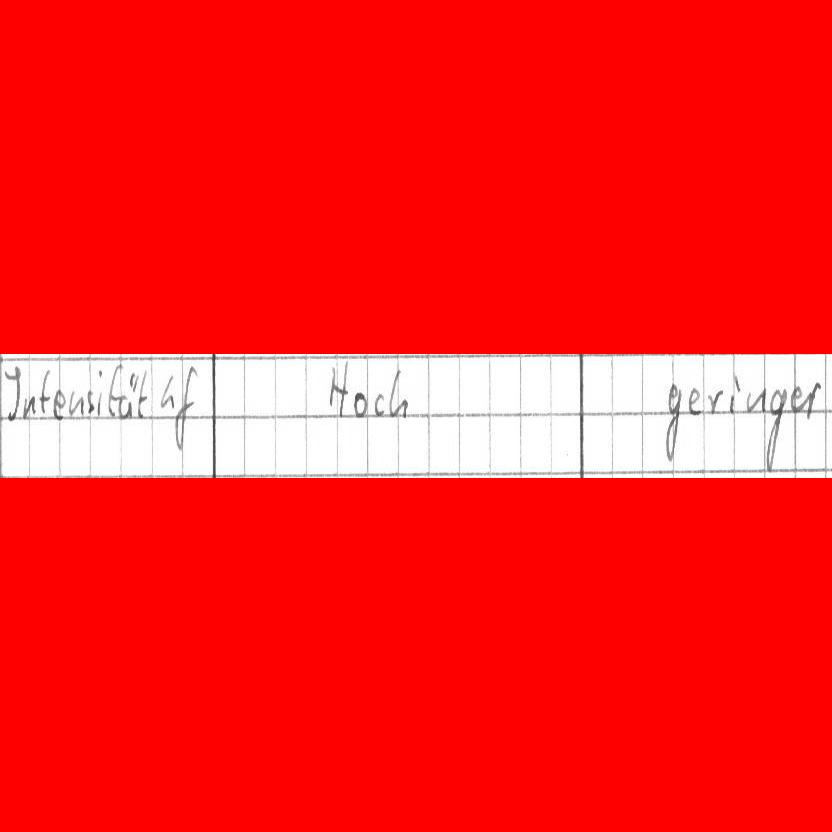Char: (174, 364, 198, 454), (764, 389, 786, 467), (664, 383, 682, 461), (790, 381, 819, 422), (327, 361, 348, 414), (4, 363, 20, 420), (108, 361, 124, 418), (389, 368, 407, 417), (744, 387, 768, 415), (135, 369, 148, 420), (92, 368, 105, 415), (159, 373, 175, 410), (126, 372, 139, 416), (728, 369, 741, 412), (40, 367, 52, 413), (53, 390, 68, 420), (688, 387, 704, 414), (709, 389, 726, 414), (352, 391, 368, 417), (23, 392, 38, 419), (71, 389, 85, 416), (373, 391, 388, 416), (86, 386, 95, 414)
